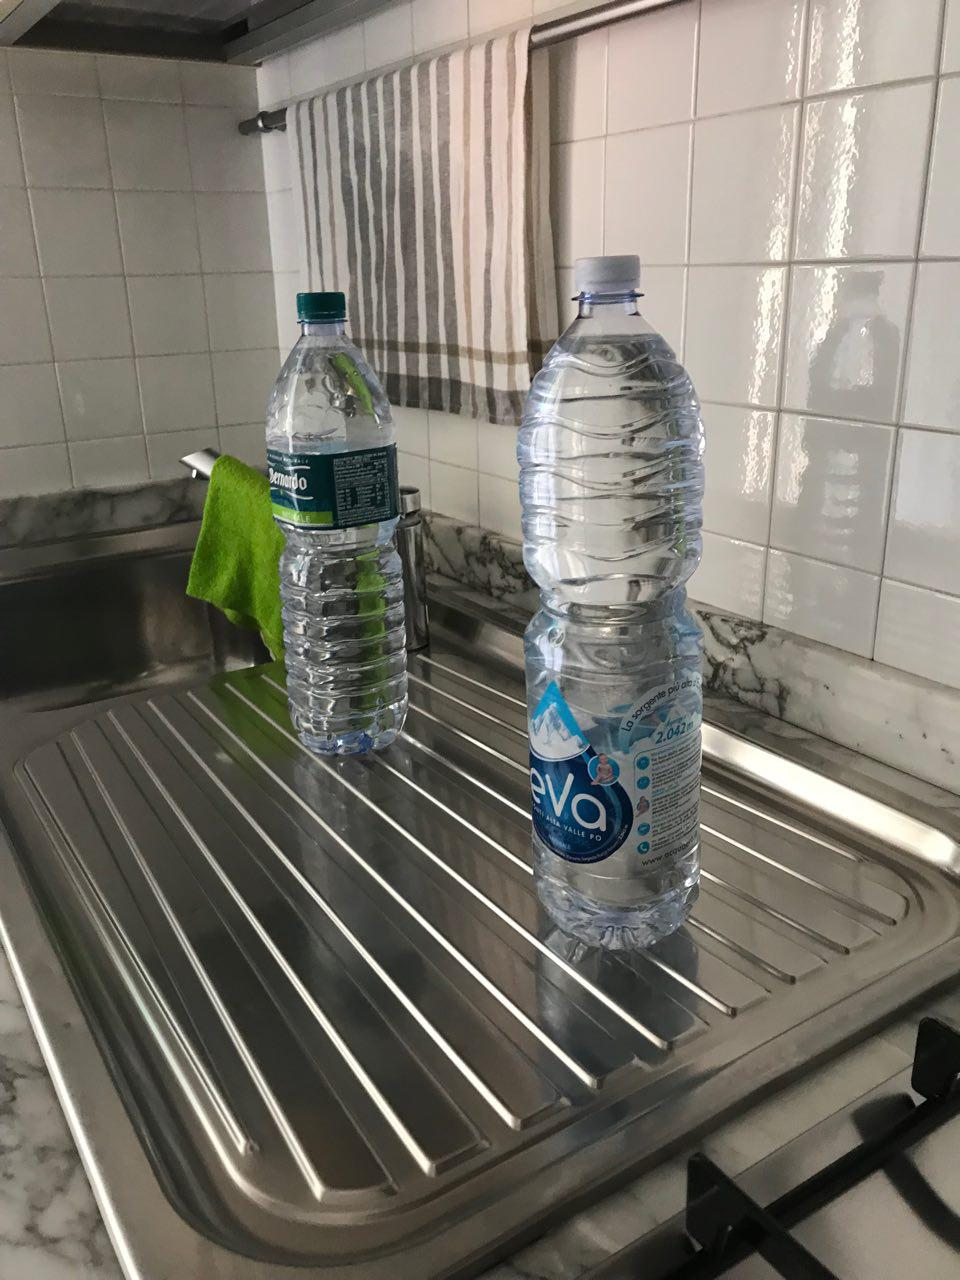san_bernardo: (264, 291, 410, 755)
